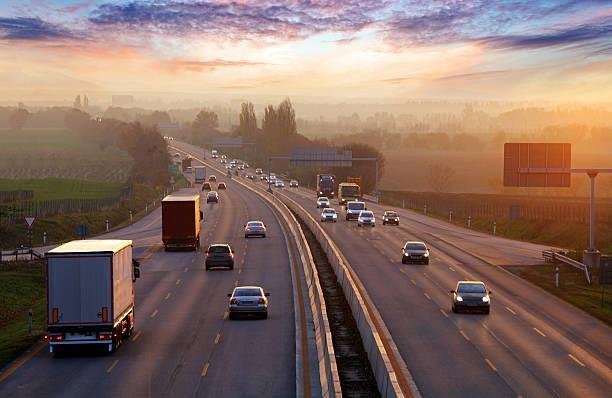HeavyVehicle: (41, 233, 136, 357), (160, 194, 200, 254), (317, 173, 336, 198)
LightVehicle: (451, 279, 494, 317), (228, 286, 270, 322), (204, 244, 236, 273), (399, 239, 432, 267), (242, 219, 270, 239), (384, 209, 403, 227), (358, 211, 379, 227), (320, 207, 339, 223), (204, 190, 224, 205)
